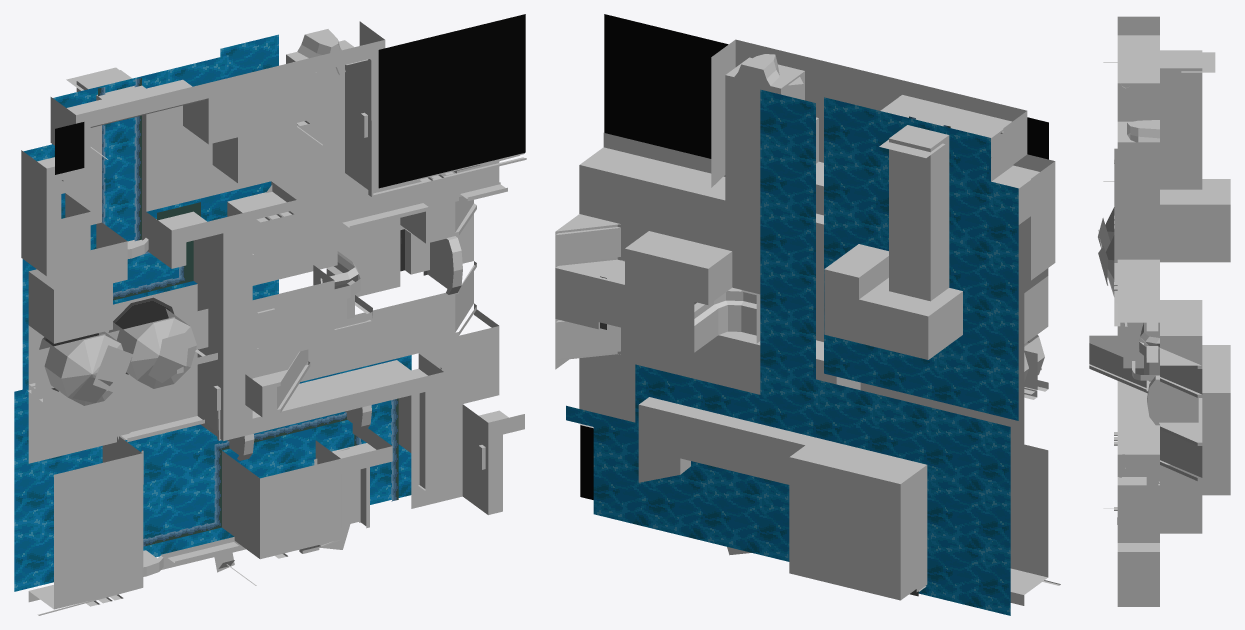
File: Sewer-Main_01_01.obj
3 renders of one model, left to right at view 1: azimuth 30°, elevation 25°; view 2: azimuth 150°, elevation 25°; view 3: azimuth 270°, elevation 25°, orthographic. The views are drawn at different scales.
Parts seen in each view (by area): view 1: map; view 2: map; view 3: map.
Part boxes in pixels (<box>): map: <box>14,14,526,615</box>; map: <box>555,14,1060,615</box>; map: <box>1089,16,1230,606</box>.
Size of the model in its own units: 32.96 by 34.01 by 10.
